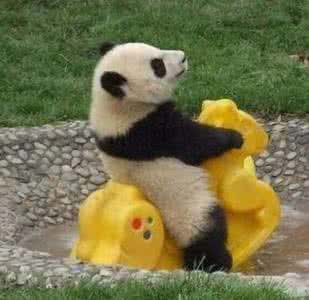panda: (89, 32, 244, 279)
